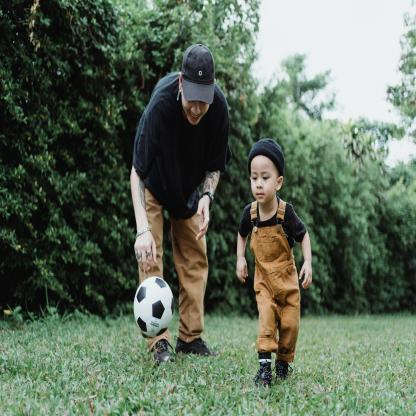ball: (133, 275, 173, 338)
